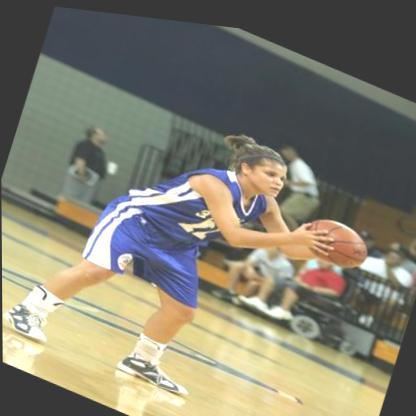basketball: (298, 199, 374, 268)
